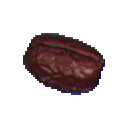ng: (18, 26, 112, 102)
